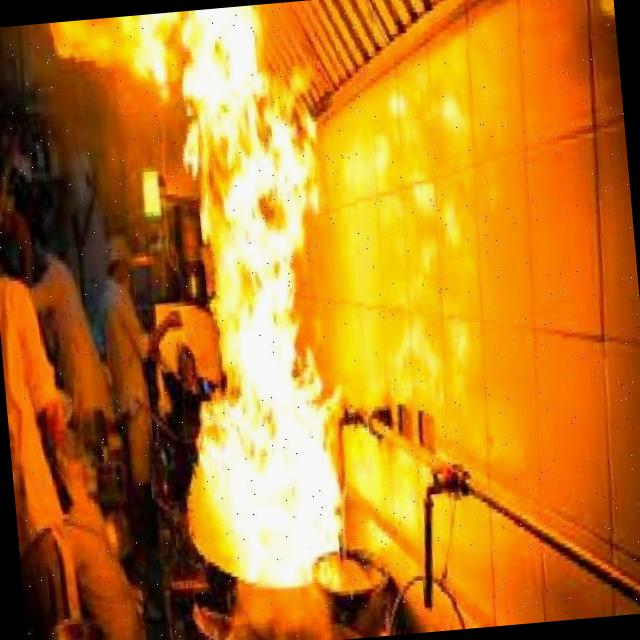fire: (116, 0, 358, 597)
